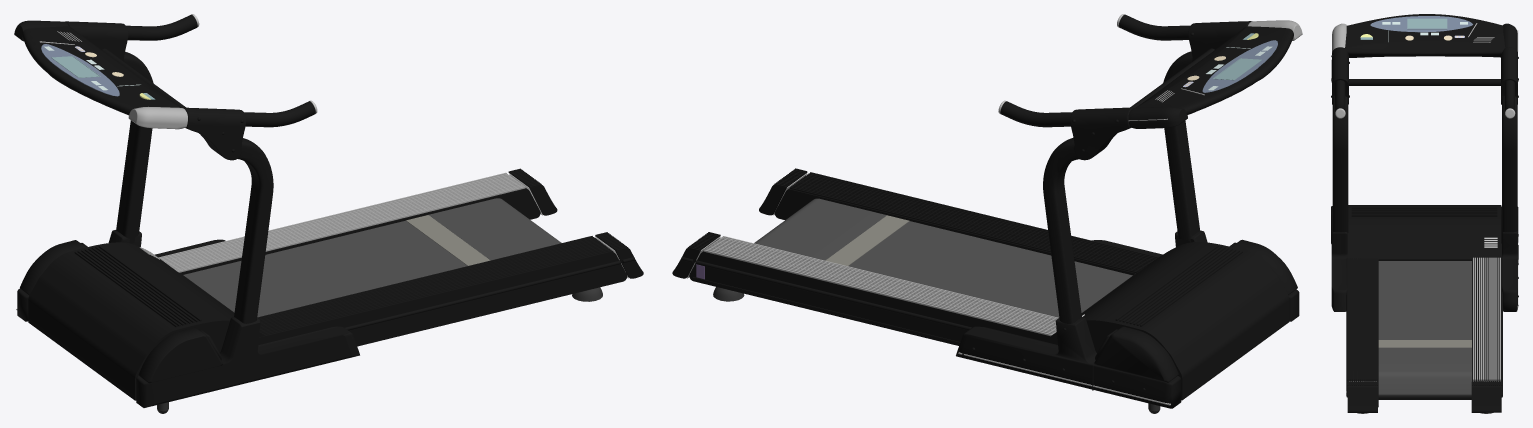
Rendered from Run2.fbx.
The picture shows the model from 3 angles, left to right: view 1: azimuth 30°, elevation 25°; view 2: azimuth 150°, elevation 25°; view 3: azimuth 270°, elevation 25°; orthographic projection. The views are drawn at different scales.
Parts seen in each view (by area): view 1: Line131, Box327, Line127, Line141, Line134, Line135, Line135.Line136, Line129, Line137, Box326, Line137.Line138, Cylinder10 (+35 smaller); view 2: Line131, Box327, Line126, Line141, Line134, Line135.Line136, Line135, Line128, Line137.Line138, Box326, Line137, Cylinder10.Cylinder11 (+35 smaller); view 3: Line131, Box327, Line141, Line134, Line135, Line135.Line136, Line127, Line126, Cylinder12, Line130, Line144, Line146 (+45 smaller).
Part boxes in pixels (x1,y1,x2,y2): Line131: [28, 188, 627, 400]; Box327: [183, 220, 467, 317]; Line127: [136, 317, 359, 407]; Line141: [22, 26, 180, 115]; Line134: [428, 198, 561, 260]; Line135: [234, 138, 273, 323]; Line135.Line136: [116, 51, 153, 243]; Line129: [138, 327, 222, 383]; Line137: [182, 107, 246, 160]; Box326: [406, 215, 490, 265]; Line137.Line138: [64, 21, 128, 61]; Cylinder10: [345, 260, 620, 330]; Line131: [689, 188, 1289, 400]; Box327: [848, 221, 1132, 317]; Line126: [956, 317, 1181, 408]; Line141: [1136, 26, 1293, 114]; Line134: [754, 198, 886, 260]; Line135.Line136: [1043, 137, 1081, 323]; Line135: [1163, 51, 1199, 241]; Line128: [1094, 326, 1178, 382]; Line137.Line138: [1070, 107, 1134, 160]; Box326: [825, 215, 909, 266]; Line137: [1188, 21, 1252, 61]; Cylinder10.Cylinder11: [695, 260, 971, 330]; Line131: [1347, 205, 1501, 407]; Box327: [1378, 261, 1471, 339]; Line141: [1345, 14, 1505, 57]; Line134: [1378, 347, 1471, 396]; Line135: [1332, 96, 1348, 233]; Line135.Line136: [1502, 96, 1517, 232]; Line127: [1331, 227, 1347, 311]; Line126: [1502, 227, 1517, 311]; Cylinder12: [1349, 79, 1500, 85]; Line130: [1347, 381, 1377, 412]; Line144: [1471, 381, 1501, 412]; Line146: [1370, 16, 1472, 32].
Size of the model in its own units: 2363 by 1311 by 997.
